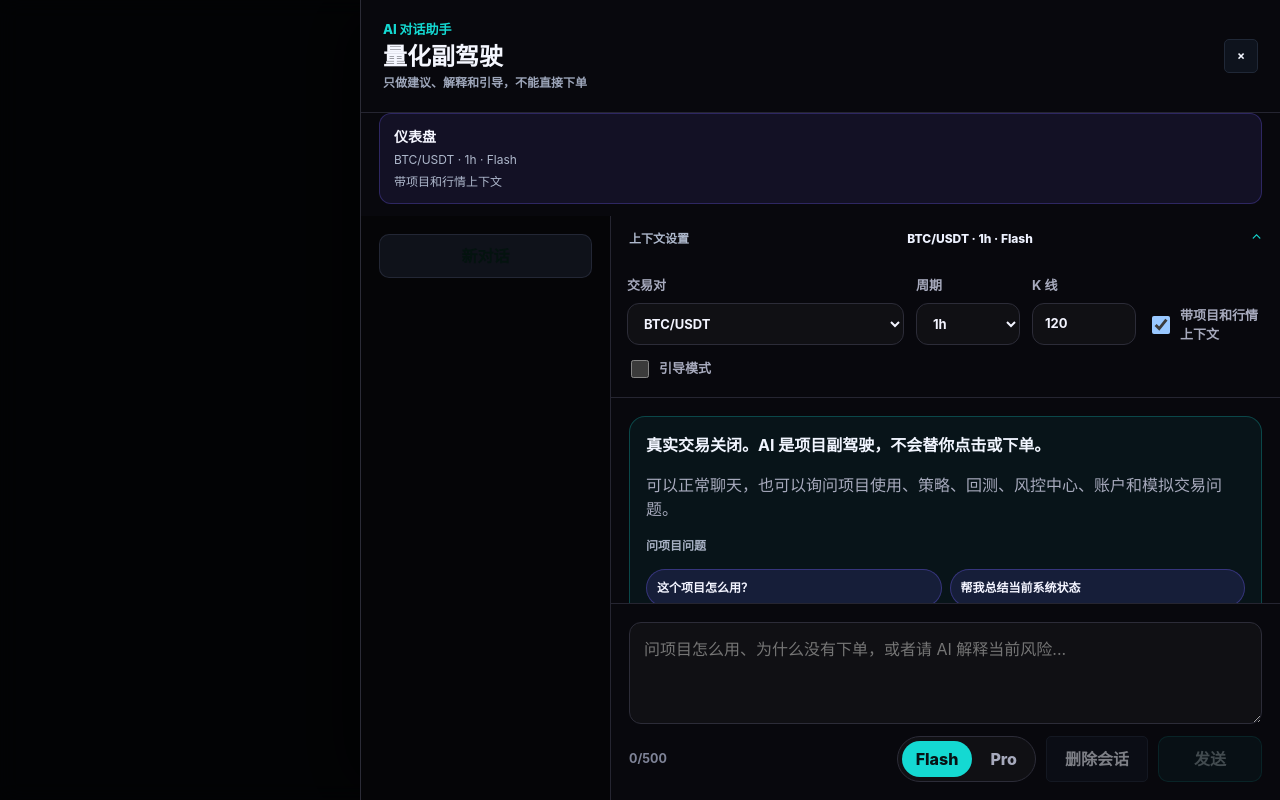
view smoke tests › enables the AI chat drawer composer after typing
Expected: the button "发送" is disabled, top-left (1158, 736), bottom-right (1262, 782)
Expected: the button "发送" is shown, top-left (1158, 736), bottom-right (1262, 782)
Type "解释当前页面" into the text box with placeholder "问项目怎么用、为什么没有下单，或者请 AI 解释当前风险..." at (946, 673), box top-left (629, 622), bottom-right (1262, 724)
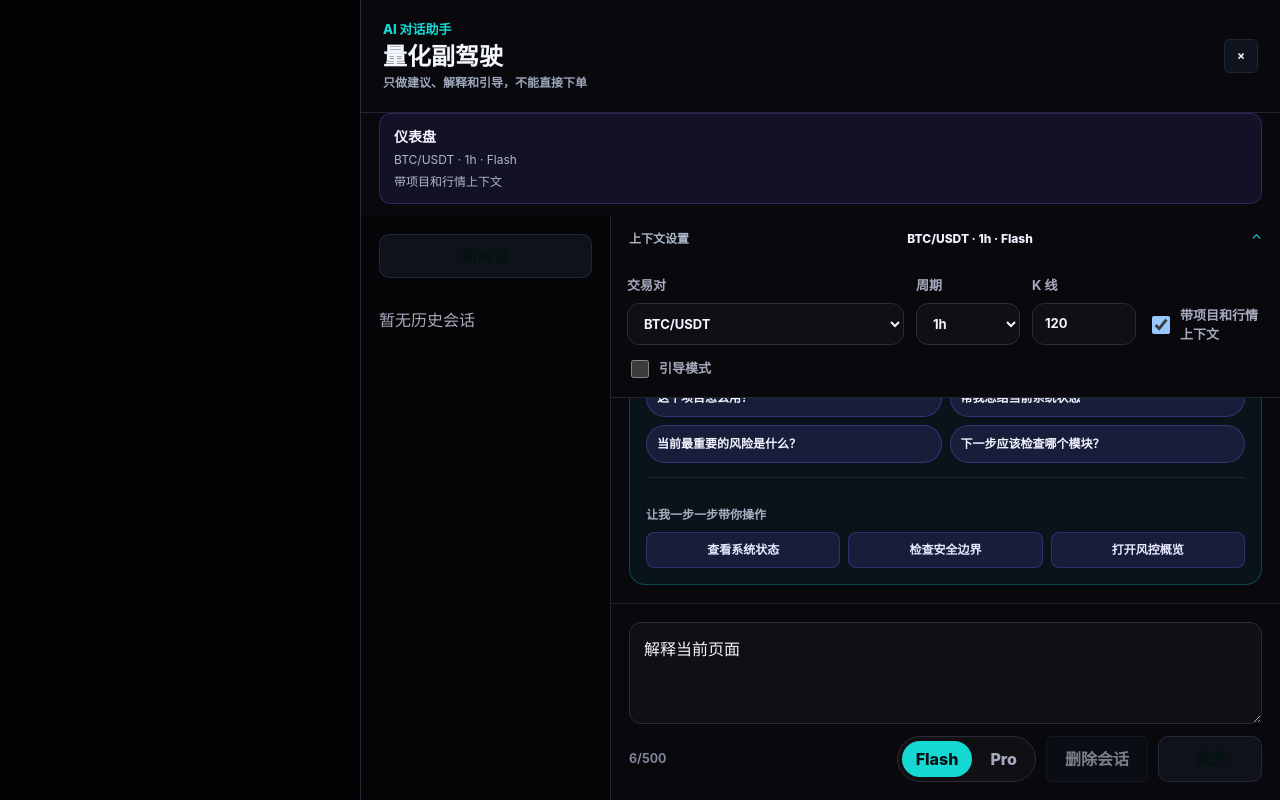
Expected: the text "6/500" is shown, top-left (629, 750), bottom-right (666, 768)
Expected: the button "发送" is enabled, top-left (1158, 736), bottom-right (1262, 782)
